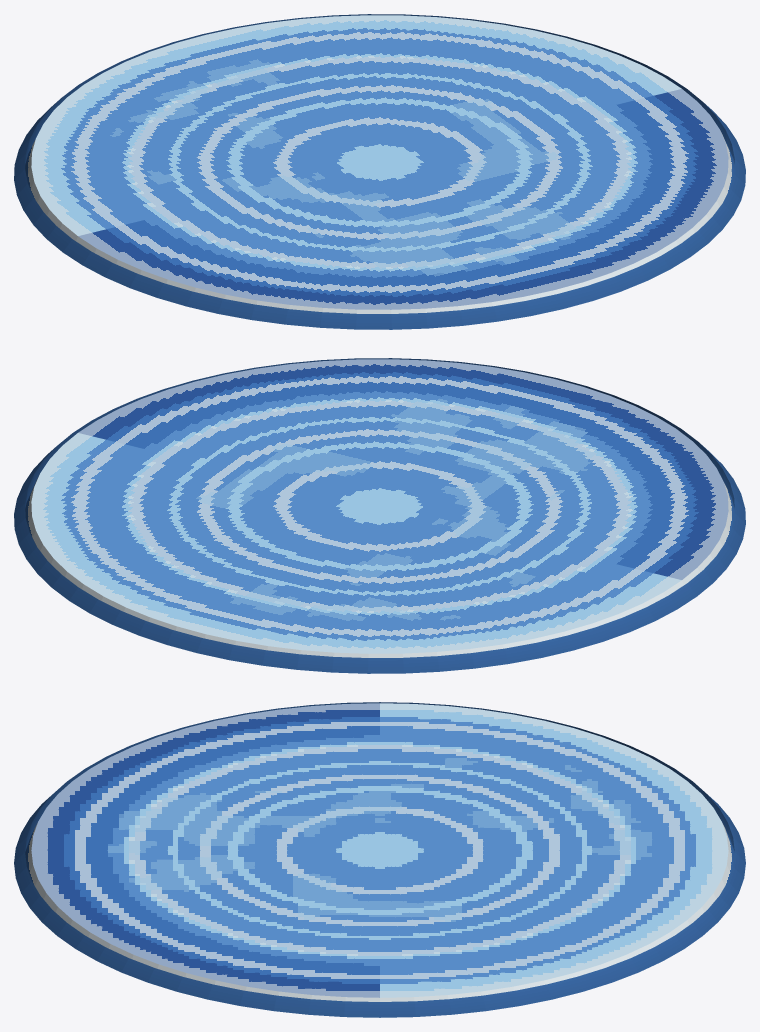
Rendered from platform_water.glb.
3 renders of one model, top to bottom at view 1: azimuth 30°, elevation 25°; view 2: azimuth 150°, elevation 25°; view 3: azimuth 270°, elevation 25°, orthographic.
Parts seen in each view (by area): view 1: platform_water; view 2: platform_water; view 3: platform_water.
Boxes of the visible parts, x1=… form: platform_water: x1=14, y1=14, x2=745, y2=329; platform_water: x1=14, y1=358, x2=745, y2=673; platform_water: x1=14, y1=702, x2=745, y2=1017.
Size of the model in its own units: 2.1 by 0.05 by 2.1.
2 materials, 2 textured.
